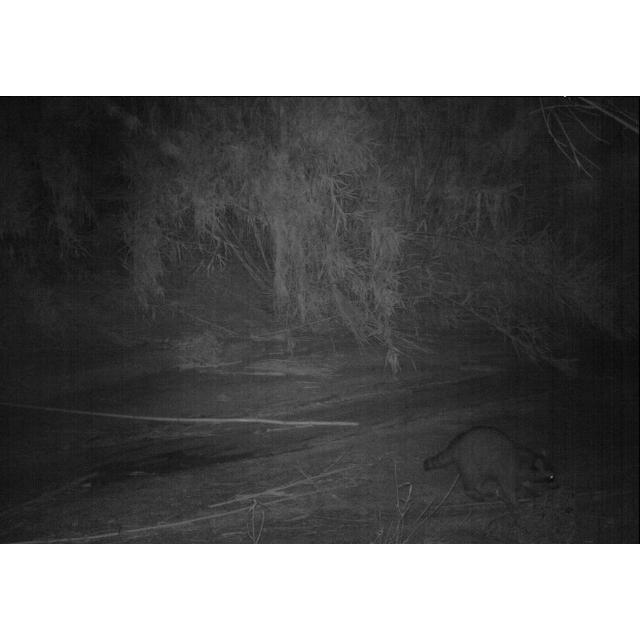animals: (422, 424, 558, 512)
